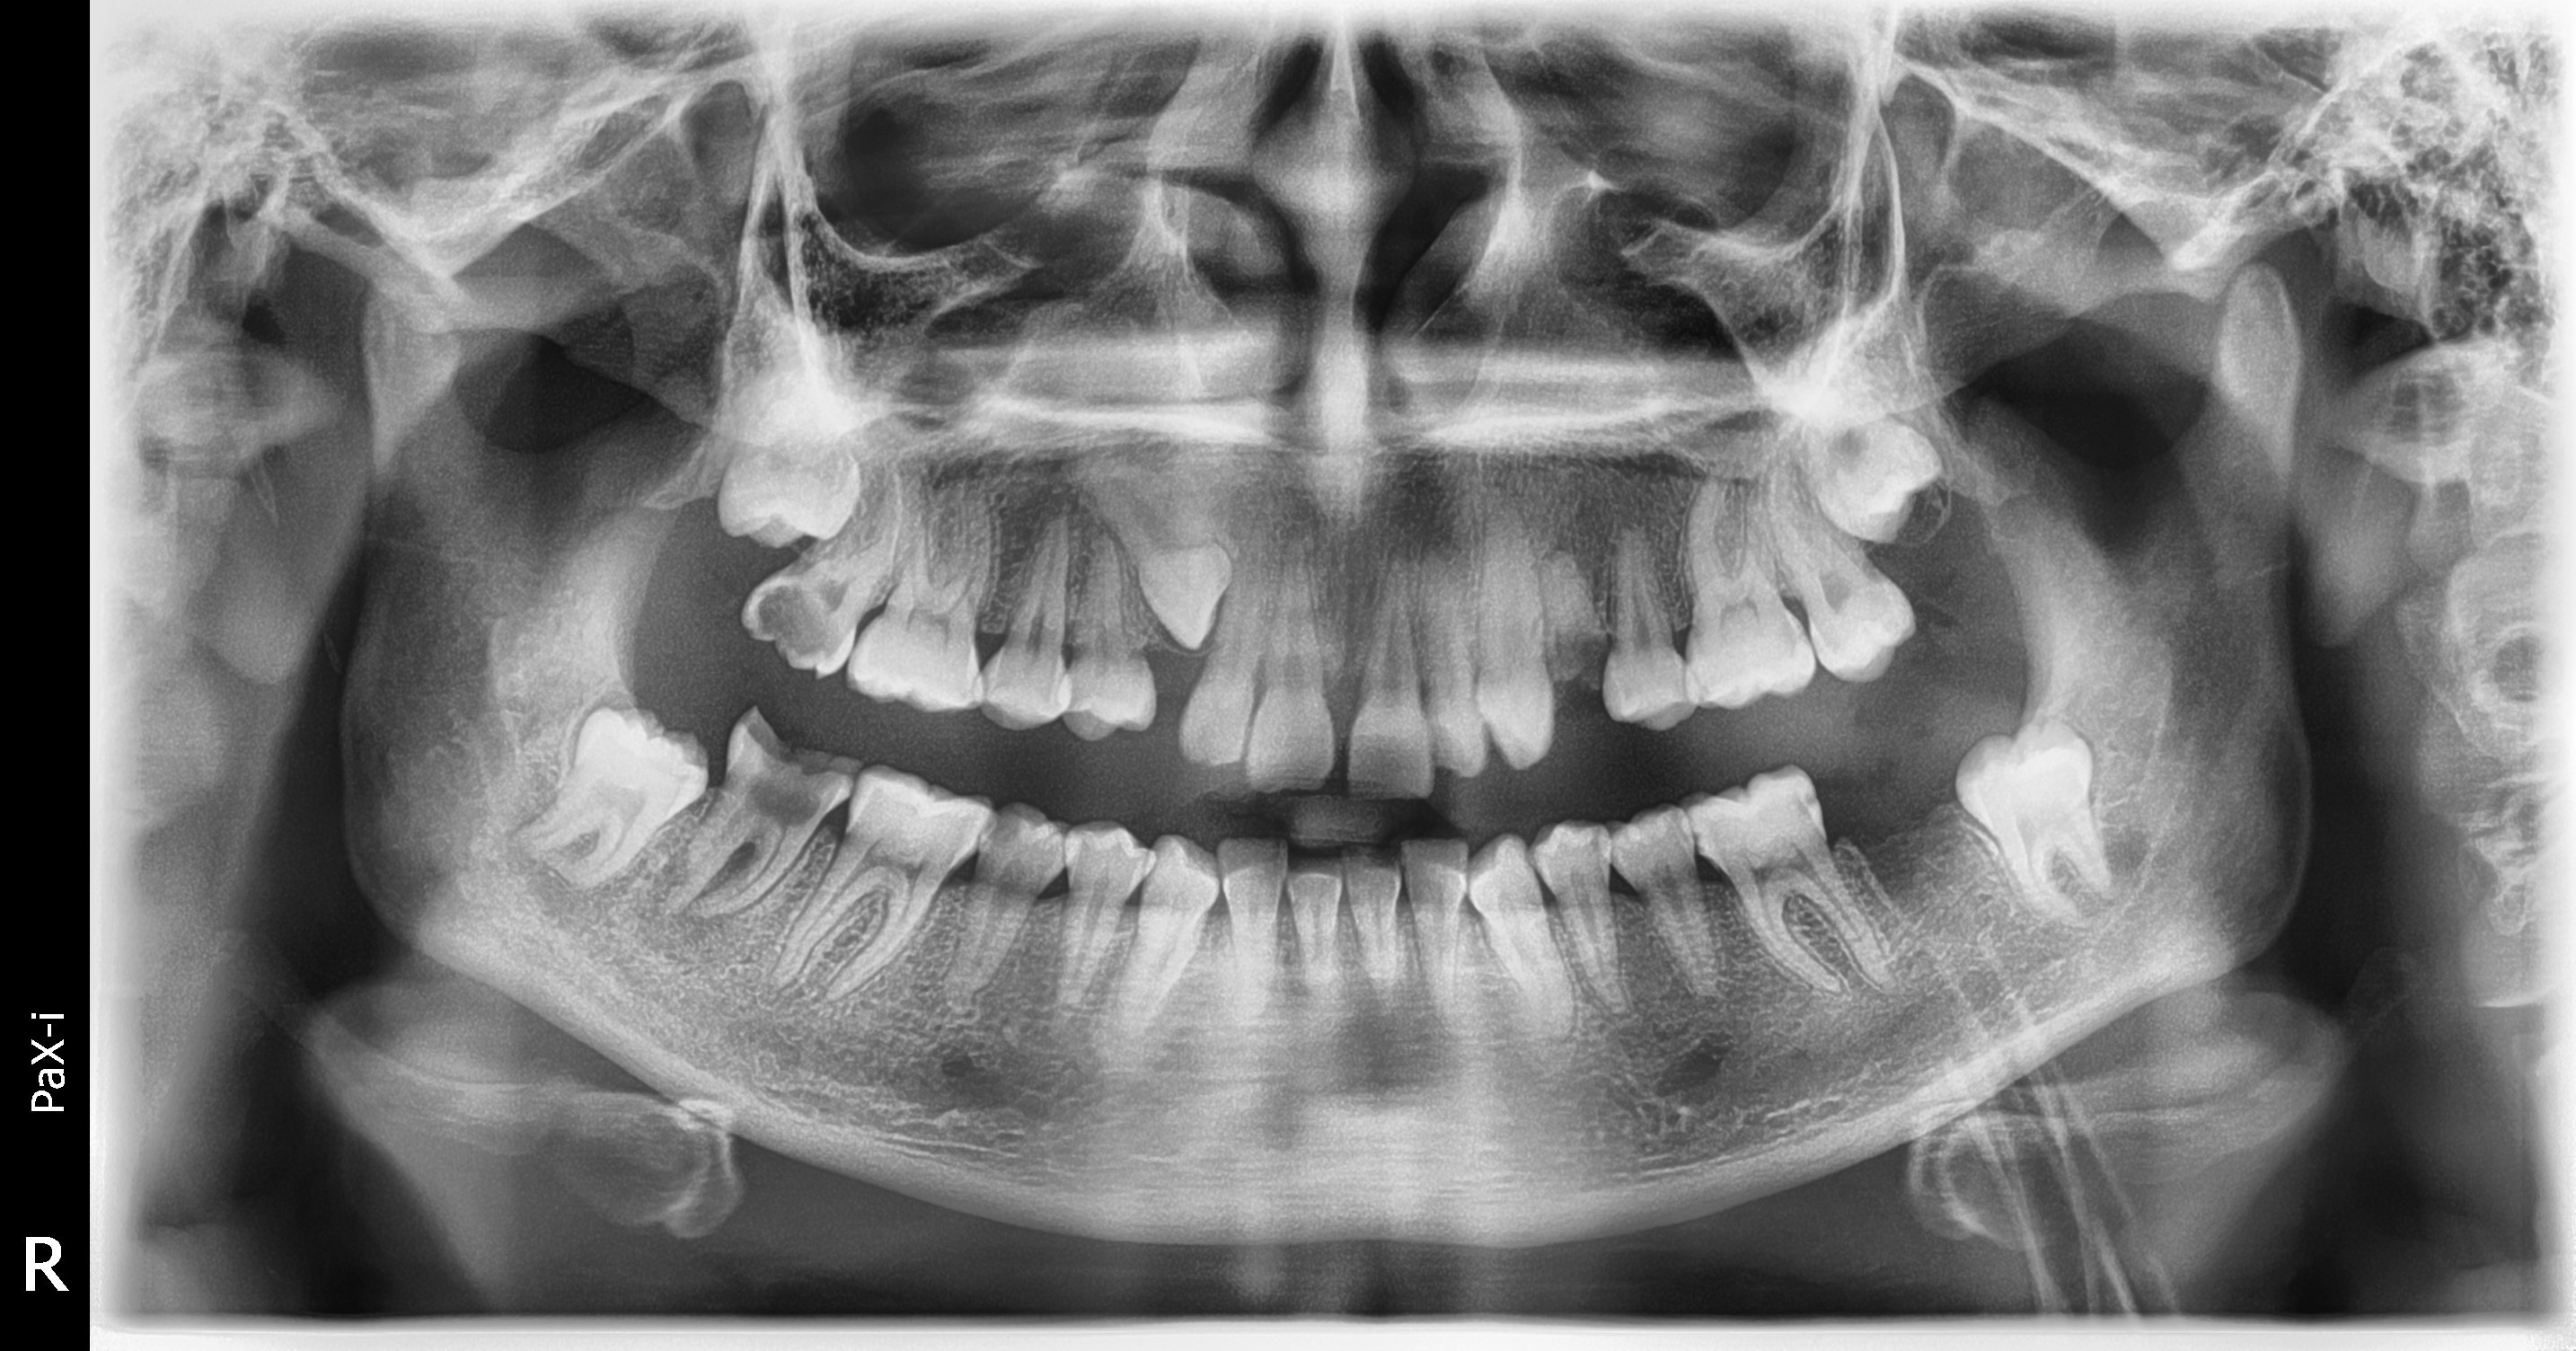API: (267, 359, 1005, 1312)
CAR: (334, 256, 1182, 913)
FUR: (312, 392, 1068, 1293)
IMT: (286, 121, 1145, 668)
ROT: (736, 201, 2346, 894)
